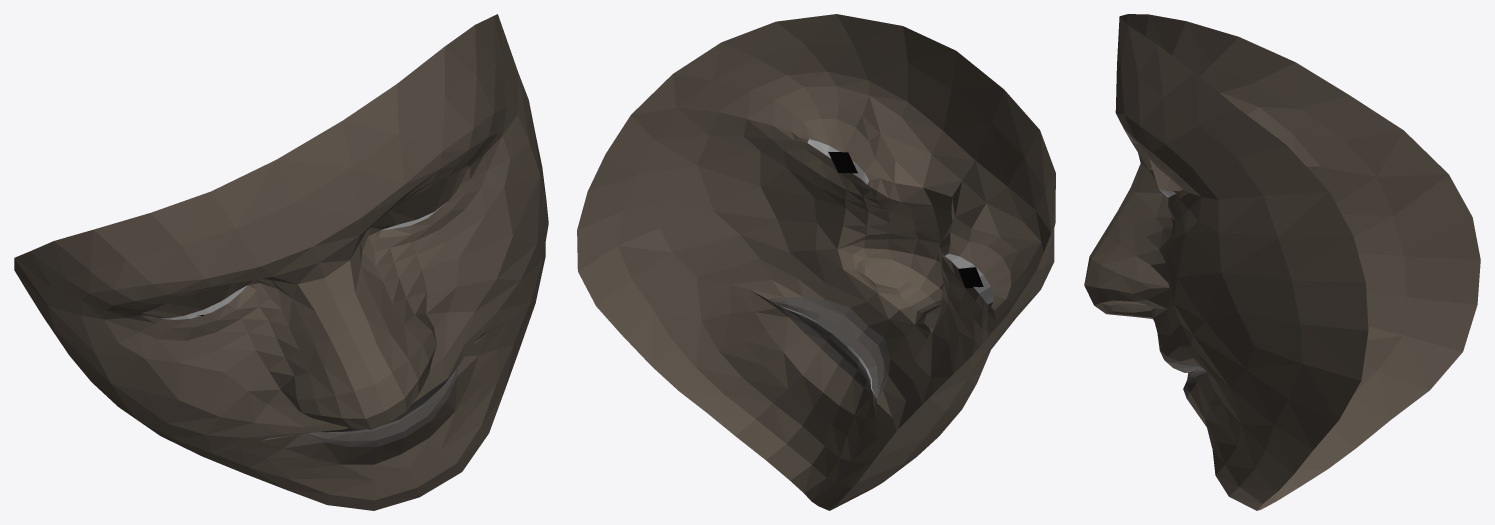
The model's file is frame_00259.obj.
3 renders of one model, left to right at view 1: azimuth 30°, elevation 25°; view 2: azimuth 150°, elevation 25°; view 3: azimuth 270°, elevation 25°, orthographic. The views are drawn at different scales.
Parts seen in each view (by area): view 1: face_model_with_iris; view 2: face_model_with_iris; view 3: face_model_with_iris.
Part boxes in pixels (left/top/right/bottom): face_model_with_iris: left=14, top=14, right=548, bottom=510; face_model_with_iris: left=577, top=14, right=1055, bottom=510; face_model_with_iris: left=1084, top=14, right=1480, bottom=510.
Bounding box in the file's own units: 0.5568 × 0.527 × 0.4102.
